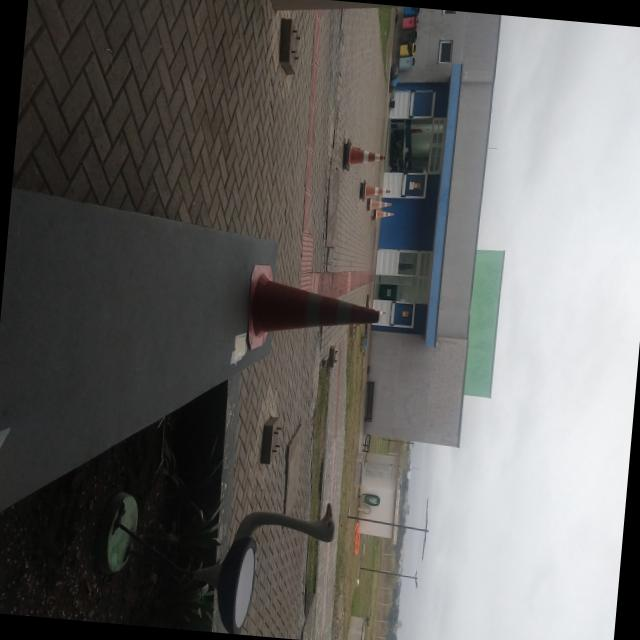cone: (246, 272, 380, 349), (335, 128, 388, 176), (360, 180, 396, 202)
